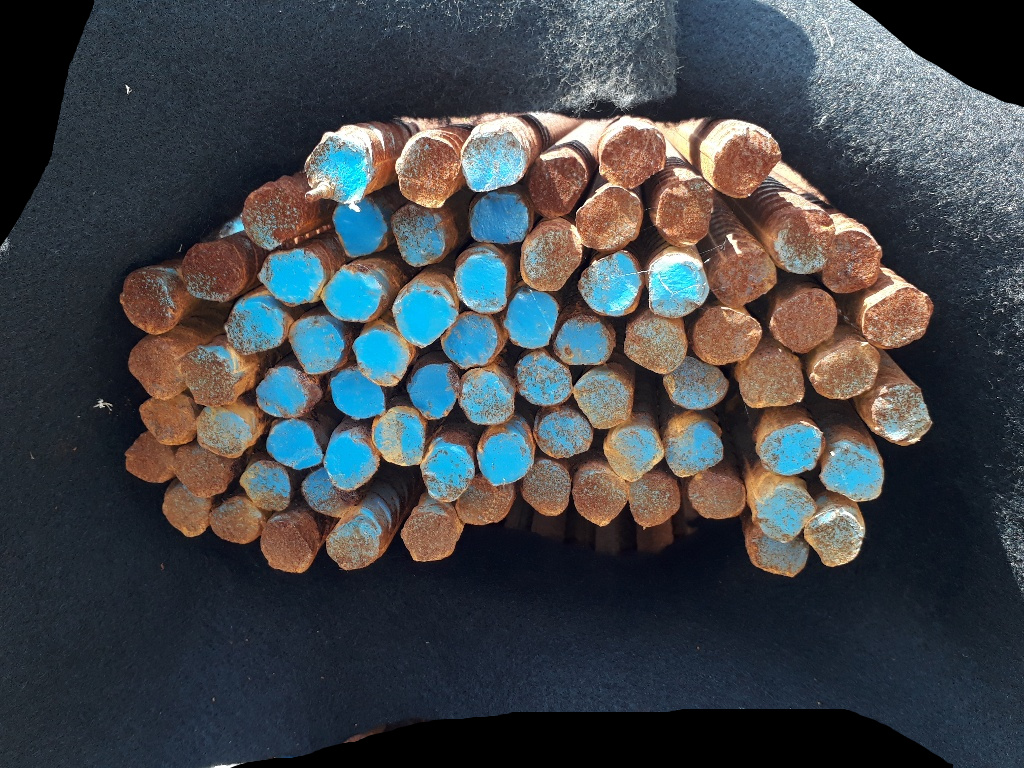dipstick: (712, 131, 782, 201), (863, 283, 932, 353), (520, 216, 583, 291), (304, 135, 368, 203), (117, 268, 181, 333), (599, 129, 667, 190), (807, 342, 878, 400), (396, 141, 459, 206), (575, 188, 643, 248), (818, 229, 882, 292), (181, 241, 246, 303), (463, 127, 523, 193), (771, 291, 838, 350), (776, 208, 834, 275), (527, 152, 585, 219), (577, 252, 641, 312), (869, 385, 934, 444), (696, 305, 761, 363), (710, 253, 780, 306), (242, 187, 304, 246), (821, 444, 883, 502), (258, 250, 323, 305), (658, 356, 729, 406), (128, 339, 189, 397), (624, 318, 687, 374), (645, 262, 710, 316), (454, 251, 508, 315), (758, 422, 824, 474), (754, 488, 817, 542), (740, 356, 805, 408), (574, 370, 632, 428), (656, 183, 713, 242), (501, 288, 557, 348), (391, 291, 452, 346), (179, 350, 240, 405), (601, 429, 663, 483), (662, 425, 724, 478), (319, 267, 381, 320), (287, 318, 344, 375), (392, 206, 445, 267), (262, 512, 315, 573), (625, 470, 681, 526), (572, 470, 628, 526), (159, 481, 215, 537), (805, 509, 862, 564), (516, 350, 573, 405), (475, 433, 531, 488), (458, 370, 513, 425), (329, 205, 386, 258), (264, 417, 322, 469), (196, 405, 254, 457), (407, 364, 459, 421), (470, 192, 529, 242), (551, 317, 615, 363), (354, 333, 409, 386), (303, 466, 359, 518), (440, 313, 496, 364), (225, 302, 282, 352), (454, 476, 513, 524), (372, 410, 423, 465), (534, 409, 593, 456), (519, 462, 571, 515), (140, 396, 195, 446), (688, 470, 745, 518), (176, 446, 230, 496), (255, 367, 310, 416), (333, 370, 386, 420), (241, 461, 294, 511), (325, 438, 374, 491), (124, 433, 178, 481), (752, 529, 807, 576), (327, 519, 379, 568), (210, 496, 261, 545), (403, 513, 454, 561), (421, 453, 470, 502)
